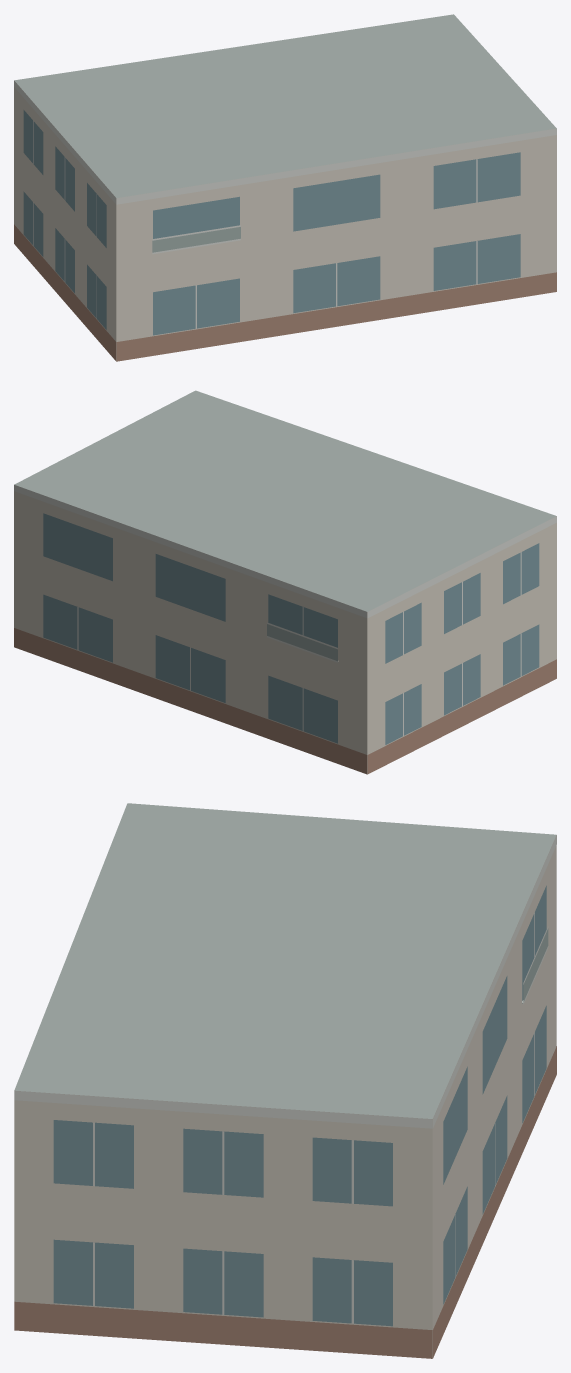
File: survey-upis-33039788.glb
3 views of the same model, one above another, from view 1: azimuth 30°, elevation 25°; view 2: azimuth 150°, elevation 25°; view 3: azimuth 270°, elevation 25° (orthographic). The views are drawn at different scales.
Visible parts, largest first — view 1: survey-upis-33039788.tmp; view 2: survey-upis-33039788.tmp; view 3: survey-upis-33039788.tmp.
Boxes of the visible parts, x1,y1,x2,y2 form: survey-upis-33039788.tmp: (14,14,556,361); survey-upis-33039788.tmp: (14,390,556,774); survey-upis-33039788.tmp: (14,803,556,1358).
Size of the model in its own units: 17.26 by 6.1 by 12.53.
